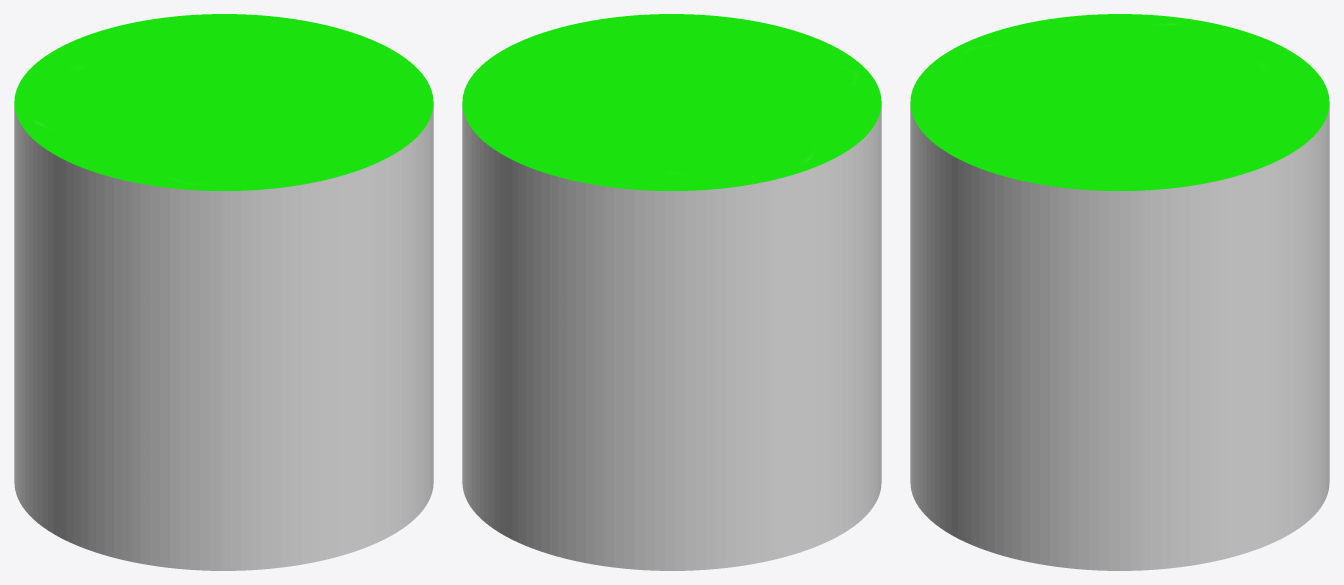
The model's file is CylinderObjectWithColor.fbx.
The picture shows the model from 3 angles, left to right: view 1: azimuth 30°, elevation 25°; view 2: azimuth 150°, elevation 25°; view 3: azimuth 270°, elevation 25°; orthographic projection.
Parts seen in each view (by area): view 1: Cylinder; view 2: Cylinder; view 3: Cylinder.
Boxes of the visible parts, x1,y1,x2,y2 form: Cylinder: (14,14,433,570); Cylinder: (462,14,881,570); Cylinder: (910,14,1329,570).
Size of the model in its own units: 200 by 200 by 200.
Materials: 1 (1 with a texture image).
